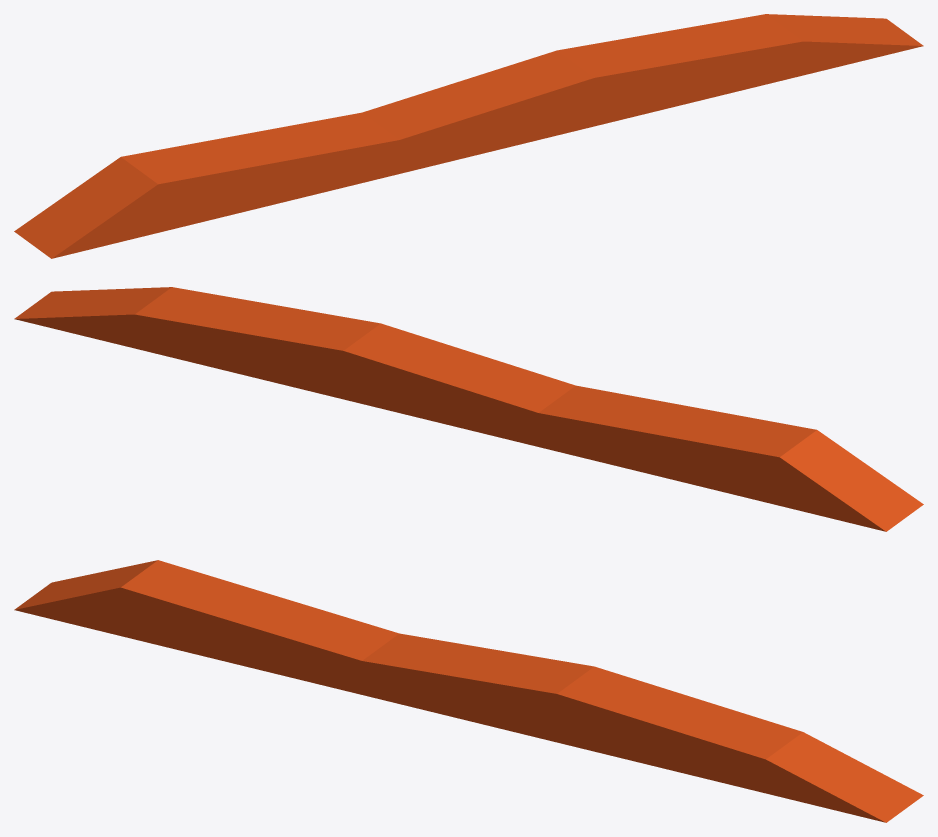
The model's file is heat_fissure.glb.
The picture shows the model from 3 angles, top to bottom: view 1: azimuth 30°, elevation 25°; view 2: azimuth 150°, elevation 25°; view 3: azimuth 330°, elevation 25°; orthographic projection.
Visible parts, largest first — view 1: heat_fissure; view 2: heat_fissure; view 3: heat_fissure.
Part boxes in pixels (left/top/right/bottom): heat_fissure: left=14, top=14, right=923, bottom=258; heat_fissure: left=14, top=287, right=923, bottom=531; heat_fissure: left=14, top=560, right=923, bottom=822.
Bounding box in the file's own units: 1.88 × 0.1 × 0.14.
